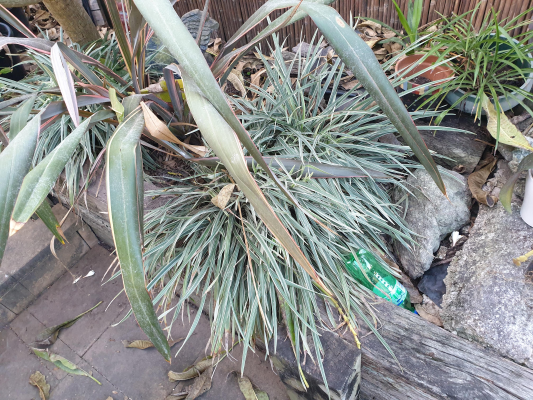Plastic Bottle: (345, 249, 418, 314)
